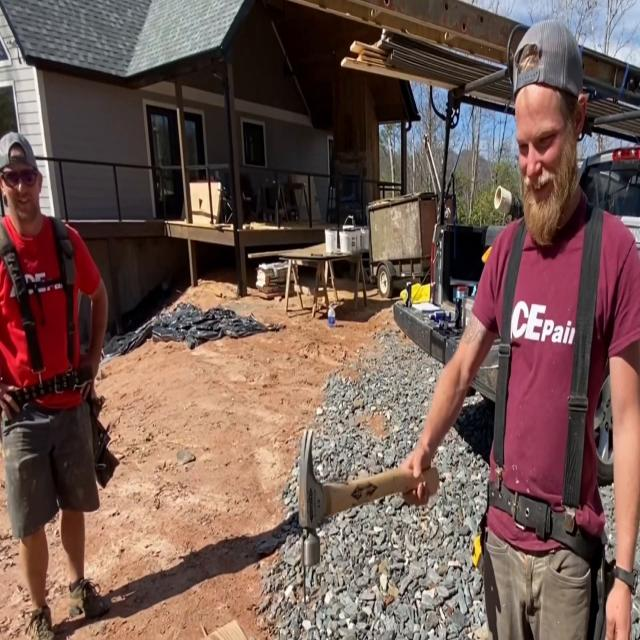hammer: (299, 430, 439, 568)
